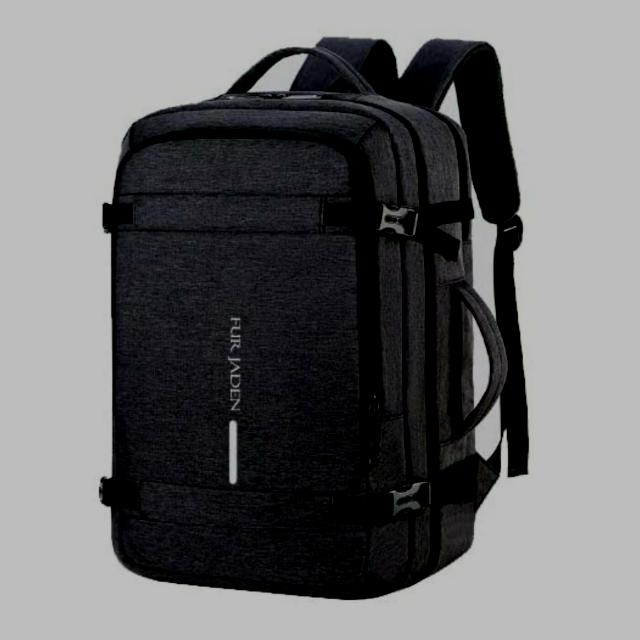backpack: (100, 37, 531, 601)
